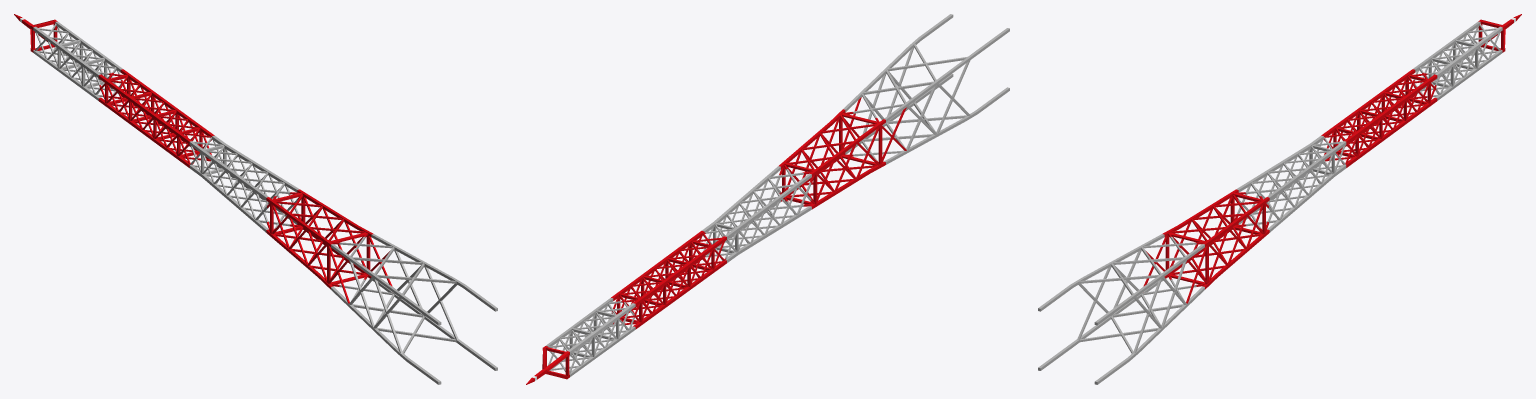
File: Radio Tower.fbx
The picture shows the model from 3 angles, left to right: view 1: azimuth 30°, elevation 25°; view 2: azimuth 150°, elevation 25°; view 3: azimuth 330°, elevation 25°; orthographic projection.
Visible parts, largest first — view 1: Radio Tower; view 2: Radio Tower; view 3: Radio Tower.
Part boxes in pixels (box(x1,y1,x2,y2)): Radio Tower: box(14, 14, 497, 384); Radio Tower: box(526, 14, 1009, 384); Radio Tower: box(1038, 14, 1521, 384).
Bounding box in the file's own units: 1612 × 1612 × 21307.
